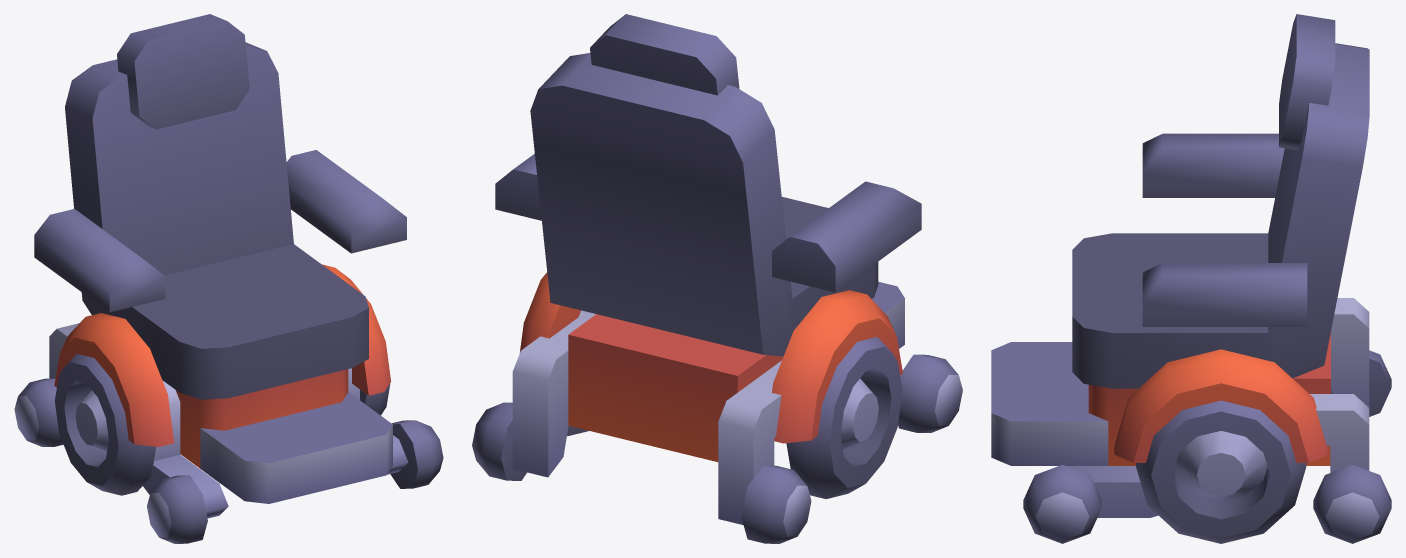
The model's file is wheelchair-power-deluxe.obj.
3 views of the same model, side by side, from view 1: azimuth 30°, elevation 25°; view 2: azimuth 150°, elevation 25°; view 3: azimuth 270°, elevation 25° (orthographic). The views are drawn at different scales.
Parts seen in each view (by area): view 1: wheelchair-power-deluxe; view 2: wheelchair-power-deluxe; view 3: wheelchair-power-deluxe.
Part boxes in pixels (x1,y1,x2,y2): wheelchair-power-deluxe: (14, 14, 443, 543); wheelchair-power-deluxe: (472, 14, 962, 543); wheelchair-power-deluxe: (991, 14, 1391, 543).
Size of the model in its own units: 0.48 by 0.6253 by 0.5109.
Materials: 1 (1 with a texture image).
